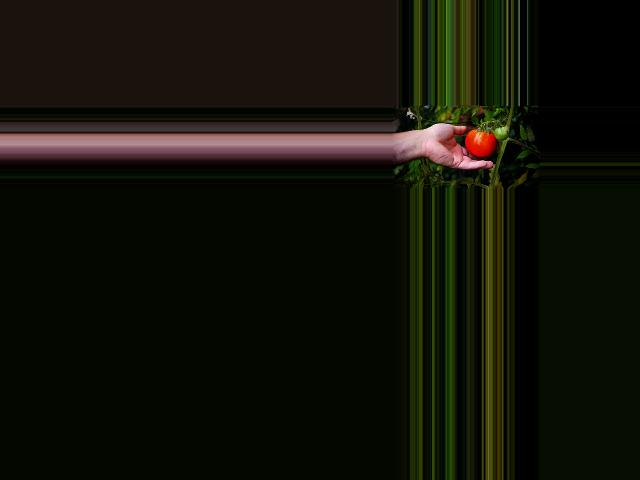tomato: (464, 129, 497, 157)
